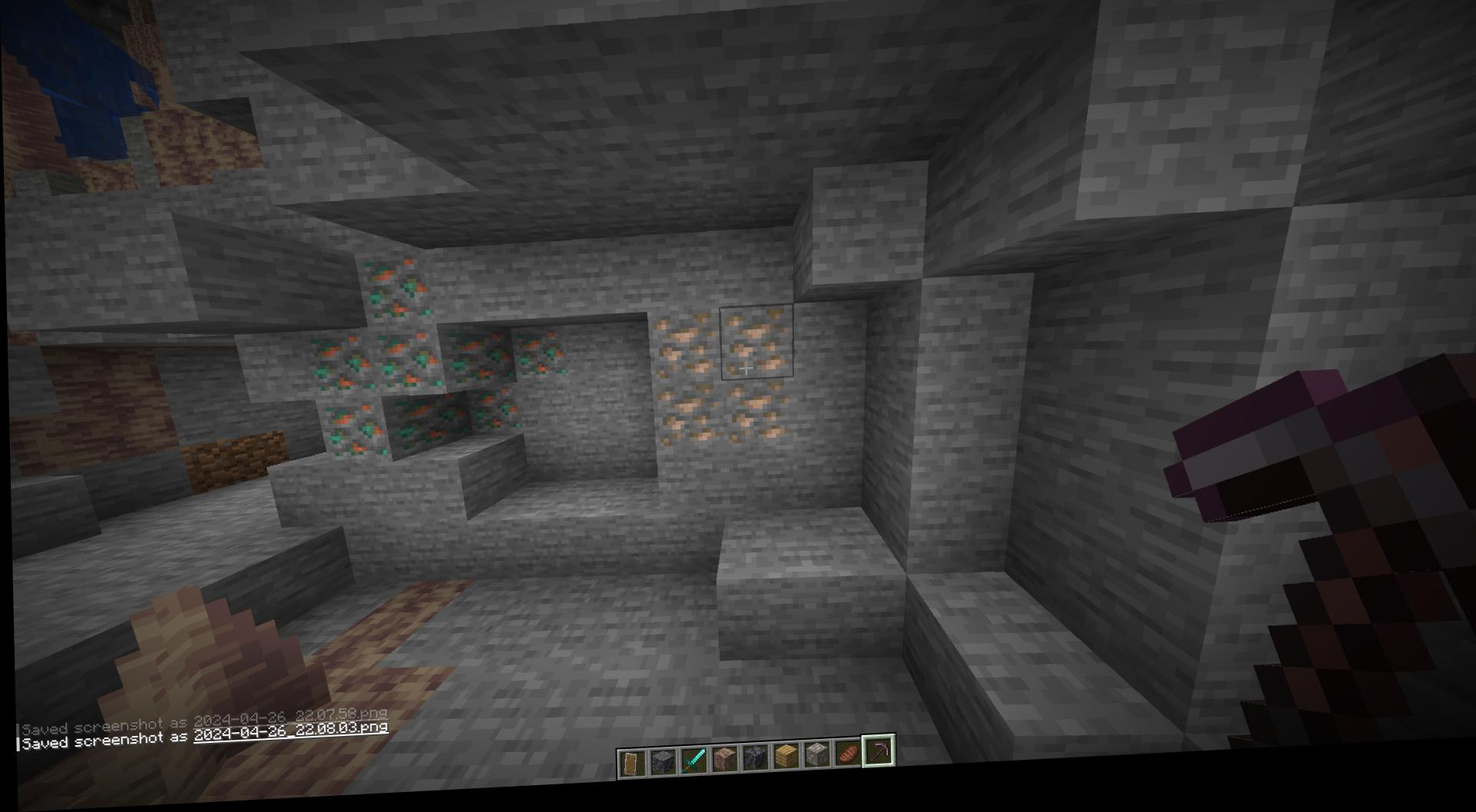iron ore: (718, 388, 793, 463), (718, 312, 791, 387), (645, 385, 721, 455), (646, 317, 718, 389)
